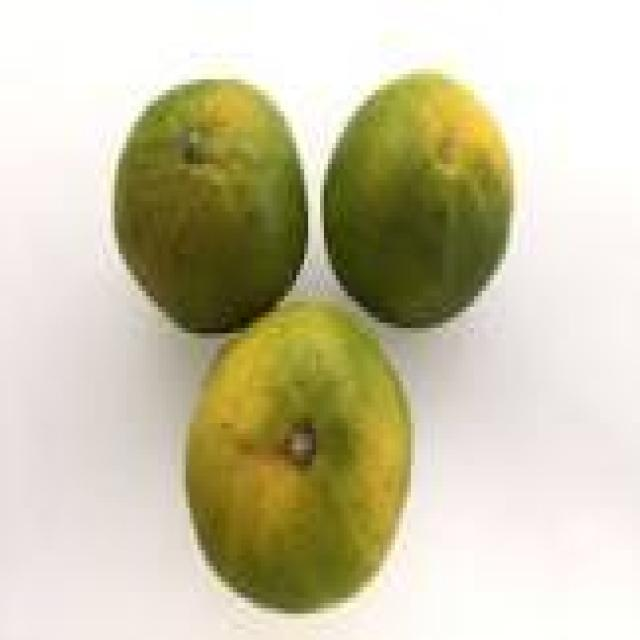orange: (186, 301, 407, 608), (115, 79, 304, 328), (324, 74, 510, 323)
